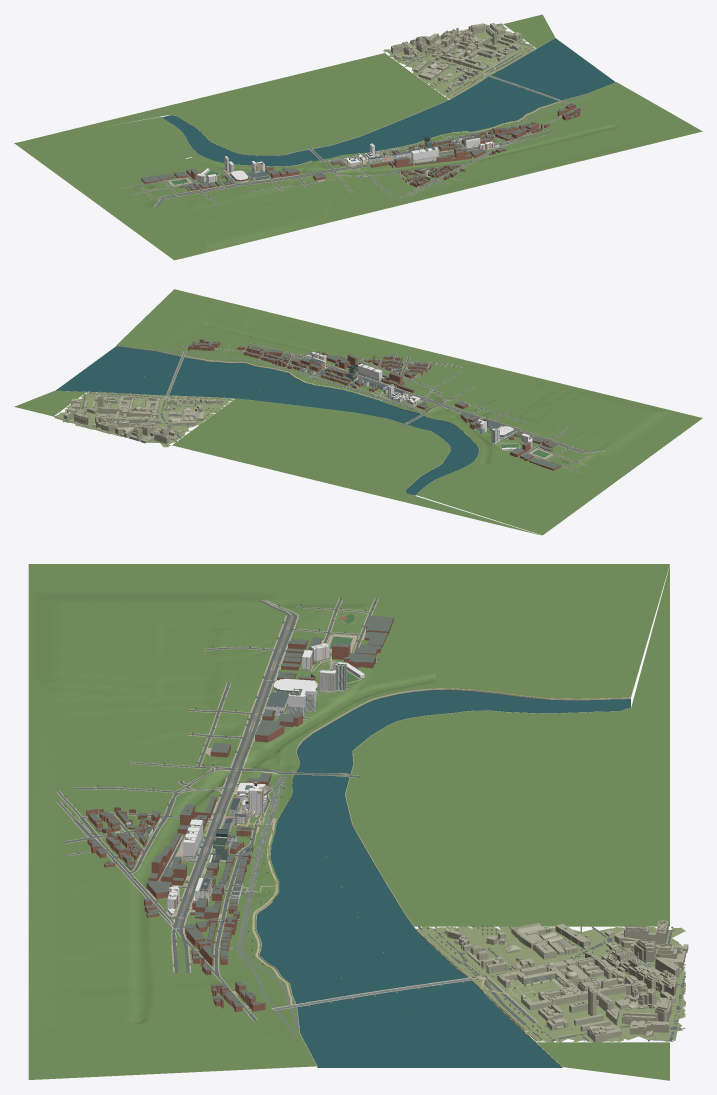
Rendered from boston.glb.
3 views of the same model, one above another, from view 1: azimuth 30°, elevation 25°; view 2: azimuth 150°, elevation 25°; view 3: azimuth 270°, elevation 25° (orthographic). The views are drawn at different scales.
Parts seen in each view (by area): view 1: Charles grass ground, Charles River water, Cambridge_buildings_(untextured), Mobile brick, Mobile roof, Mobile road, 2025_orthophotography, Mobile paving, Charles stone, Charles asphalt ground, grass; view 2: Charles grass ground, Charles River water, Cambridge_buildings_(untextured), Mobile brick, 2025_orthophotography, Mobile roof, Mobile road, Mobile paving, Charles asphalt ground, Charles stone, grass, road; view 3: Charles grass ground, Charles River water, Cambridge_buildings_(untextured), Mobile roof, Mobile road, 2025_orthophotography, Mobile brick, Mobile paving, Charles asphalt ground, Charles stone, grass, Mobile gravel (+3 smaller).
Part boxes in pixels (x1=…): Charles grass ground: x1=14, y1=14, x2=702, y2=260; Charles River water: x1=162, y1=38, x2=615, y2=166; Cambridge_buildings_(untextured): x1=391, y1=23, x2=530, y2=94; Mobile brick: x1=141, y1=104, x2=580, y2=191; Mobile roof: x1=141, y1=103, x2=580, y2=190; Mobile road: x1=123, y1=105, x2=584, y2=207; 2025_orthophotography: x1=383, y1=23, x2=535, y2=98; Mobile paving: x1=122, y1=105, x2=584, y2=206; Charles stone: x1=163, y1=38, x2=615, y2=166; Charles asphalt ground: x1=327, y1=75, x2=591, y2=161; grass: x1=422, y1=30, x2=532, y2=97; Charles grass ground: x1=14, y1=289, x2=702, y2=535; Charles River water: x1=56, y1=346, x2=478, y2=495; Cambridge_buildings_(untextured): x1=63, y1=391, x2=220, y2=443; Mobile brick: x1=188, y1=339, x2=561, y2=470; 2025_orthophotography: x1=54, y1=392, x2=232, y2=447; Mobile roof: x1=188, y1=339, x2=560, y2=468; Mobile road: x1=179, y1=343, x2=605, y2=473; Mobile paving: x1=181, y1=343, x2=605, y2=473; Charles asphalt ground: x1=152, y1=348, x2=422, y2=412; Charles stone: x1=58, y1=345, x2=479, y2=495; grass: x1=85, y1=392, x2=232, y2=429; road: x1=53, y1=393, x2=233, y2=445; Charles grass ground: x1=28, y1=564, x2=669, y2=1080; Charles River water: x1=256, y1=690, x2=630, y2=1067; Cambridge_buildings_(untextured): x1=417, y1=919, x2=688, y2=1042; Mobile roof: x1=86, y1=615, x2=393, y2=1006; Mobile road: x1=57, y1=598, x2=378, y2=1020; 2025_orthophotography: x1=416, y1=926, x2=686, y2=1042; Mobile brick: x1=86, y1=617, x2=393, y2=1011; Mobile paving: x1=56, y1=598, x2=378, y2=1020; Charles asphalt ground: x1=237, y1=776, x2=472, y2=1036; Charles stone: x1=246, y1=688, x2=630, y2=1067; grass: x1=422, y1=926, x2=685, y2=1041; Mobile gravel: x1=177, y1=615, x2=293, y2=928.
Size of the model in its own units: 3750 by 107 by 2026.
